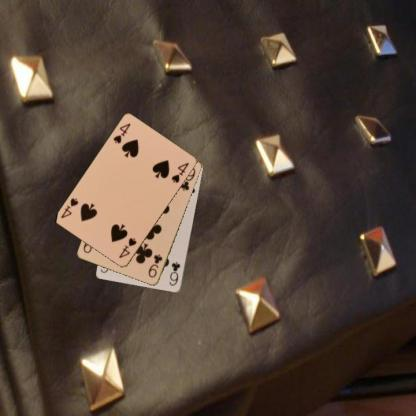4s: (116, 235, 138, 260), (111, 121, 132, 145)
6c: (167, 260, 181, 287)
9c: (146, 252, 164, 279)
